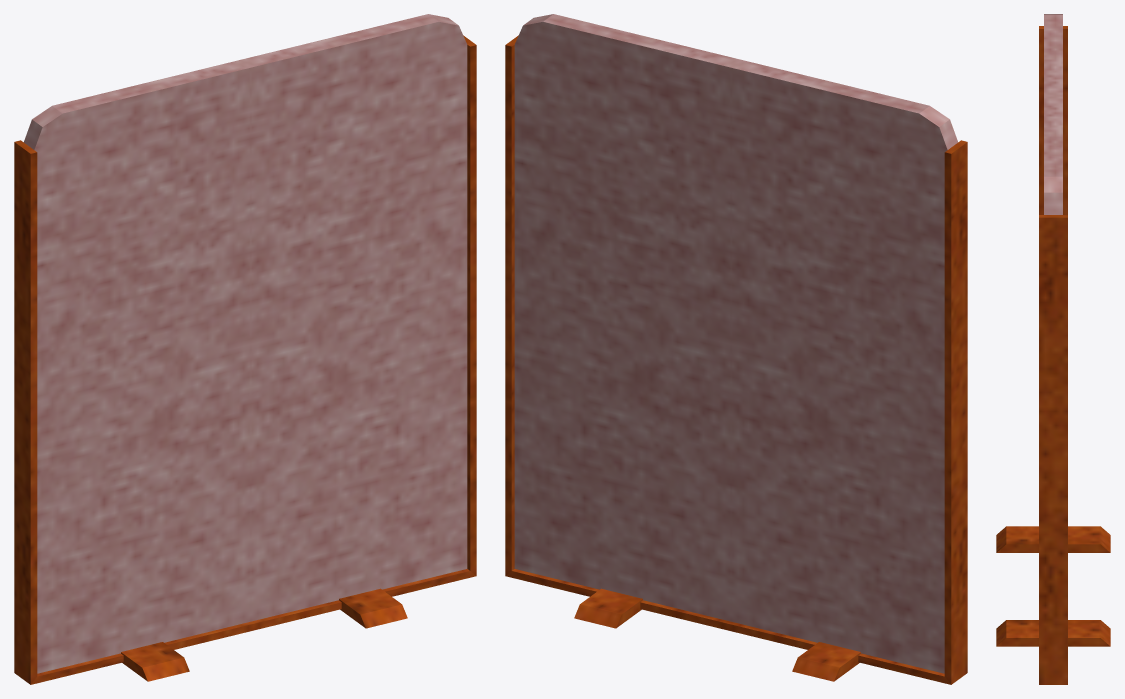
Rendered from divider_veneer_red_half.fbx.
3 views of the same model, side by side, from view 1: azimuth 30°, elevation 25°; view 2: azimuth 150°, elevation 25°; view 3: azimuth 270°, elevation 25° (orthographic). The views are drawn at different scales.
Parts seen in each view (by area): view 1: divider_veneer_red_half; view 2: divider_veneer_red_half; view 3: divider_veneer_red_half.
Part boxes in pixels (x1,y1,x2,y2): divider_veneer_red_half: (14, 14, 476, 684); divider_veneer_red_half: (505, 14, 967, 684); divider_veneer_red_half: (996, 14, 1110, 684).
Bounding box in the file's own units: 207 × 250 × 52.3.
Materials: 1 (1 with a texture image).
